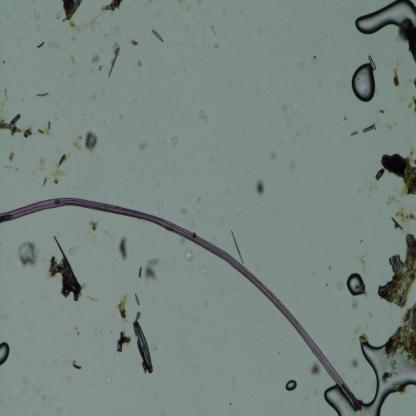Air bubble: (324, 327, 416, 415), (354, 1, 416, 36), (350, 61, 376, 103), (346, 271, 366, 296), (0, 341, 10, 366), (285, 379, 298, 393)
Background material: (378, 235, 416, 310), (47, 233, 87, 303), (374, 145, 416, 195), (0, 110, 57, 141), (42, 153, 69, 188), (15, 239, 40, 268), (389, 206, 416, 231), (71, 16, 100, 34), (62, 0, 84, 23), (74, 131, 98, 152), (109, 41, 121, 83), (232, 228, 243, 265), (144, 258, 160, 283), (98, 0, 122, 16), (281, 103, 301, 121), (117, 293, 129, 321), (116, 331, 131, 351), (4, 153, 19, 173), (118, 235, 128, 262), (48, 35, 68, 48), (254, 21, 270, 37), (68, 52, 77, 79), (0, 88, 10, 112), (90, 54, 102, 73), (392, 67, 402, 88), (182, 249, 194, 265), (255, 179, 265, 198), (166, 135, 179, 148), (362, 122, 376, 134), (408, 93, 416, 114), (310, 361, 321, 376), (35, 90, 51, 100), (209, 24, 220, 38), (70, 359, 83, 370), (208, 42, 224, 50), (178, 208, 189, 219), (36, 38, 46, 50), (89, 217, 97, 232), (134, 59, 144, 70), (196, 266, 209, 274), (139, 141, 149, 151), (199, 112, 209, 122), (350, 128, 358, 138), (131, 38, 139, 47), (138, 266, 142, 278)
Diatom: (134, 326, 152, 376), (387, 252, 404, 274), (151, 30, 164, 42), (134, 292, 140, 307)
Microfibre: (0, 194, 359, 406)
